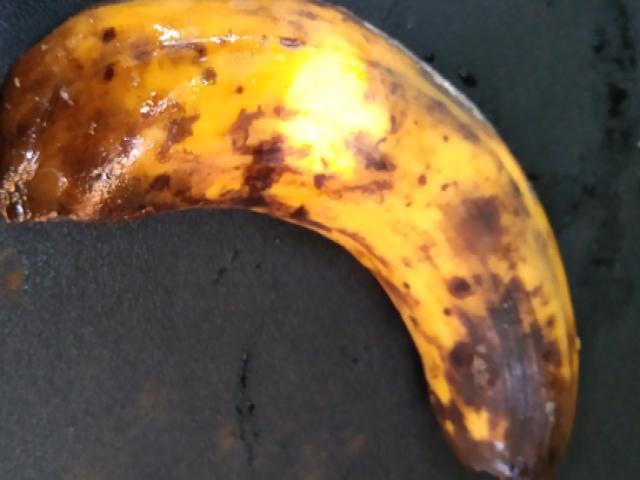rotten: (0, 0, 595, 470)
